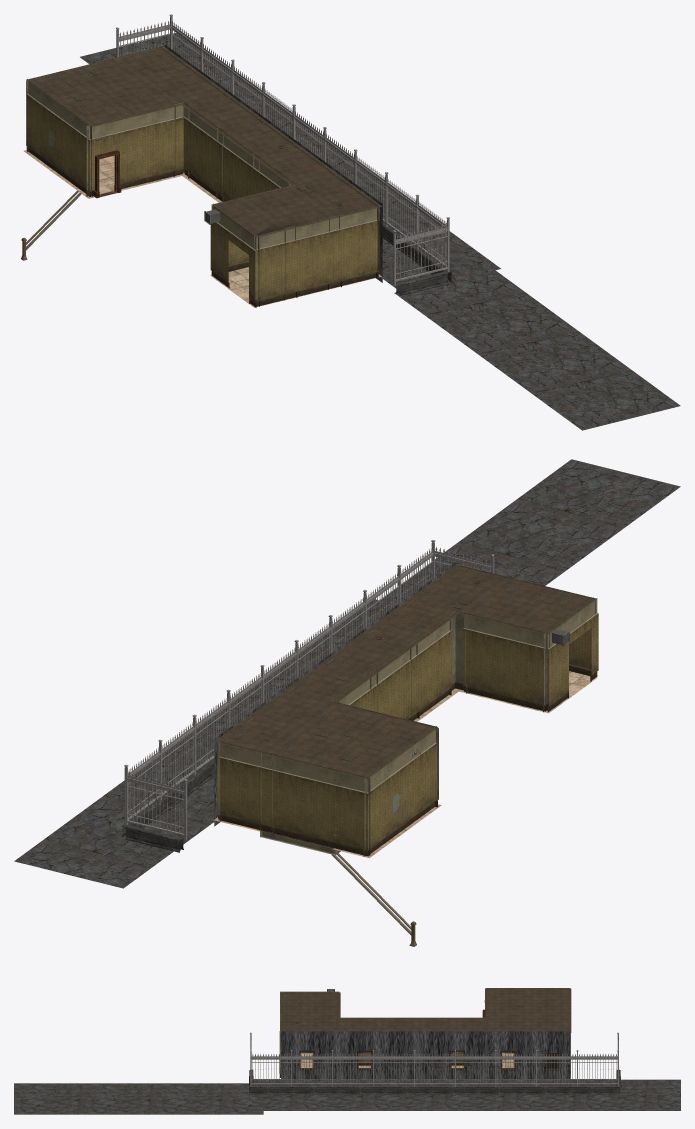
Rendered from st4_303_0_terrain_00ms.fbx.
The picture shows the model from 3 angles, top to bottom: view 1: azimuth 30°, elevation 25°; view 2: azimuth 150°, elevation 25°; view 3: azimuth 270°, elevation 25°; orthographic projection. The views are drawn at different scales.
Visible parts, largest first — view 1: LOD_1_Group_0_Sub_3__st2_police1fRightWall04, LOD_1_Group_0_Sub_13__st1_townGround02_Mat, LOD_1_Group_0_Sub_5__st2_police1fRightCeiling03, LOD_1_Group_0_Sub_15__st1_townPoliceFence01_Mat, LOD_1_Group_0_Sub_2__st2_police1fRightFloor03, LOD_1_Group_0_Sub_14__fefefefe_st1_townPolice00_Mat, LOD_1_Group_0_Sub_4__OutWall, LOD_1_Group_0_Sub_9__st2_police1fRightDoor11; view 2: LOD_1_Group_0_Sub_3__st2_police1fRightWall04, LOD_1_Group_0_Sub_13__st1_townGround02_Mat, LOD_1_Group_0_Sub_5__st2_police1fRightCeiling03, LOD_1_Group_0_Sub_15__st1_townPoliceFence01_Mat, LOD_1_Group_0_Sub_14__fefefefe_st1_townPolice00_Mat, LOD_1_Group_0_Sub_2__st2_police1fRightFloor03, LOD_1_Group_0_Sub_4__OutWall, LOD_1_Group_0_Sub_1__st2_police1fRightStairs01; view 3: LOD_1_Group_0_Sub_13__st1_townGround02_Mat, LOD_1_Group_0_Sub_4__OutWall, LOD_1_Group_0_Sub_5__st2_police1fRightCeiling03, LOD_1_Group_0_Sub_15__st1_townPoliceFence01_Mat, LOD_1_Group_0_Sub_14__fefefefe_st1_townPolice00_Mat, LOD_1_Group_0_Sub_3__st2_police1fRightWall04, LOD_1_Group_0_Sub_6__st2_police1fRightWindows03, LOD_1_Group_0_Sub_2__st2_police1fRightFloor03.
Boxes of the visible parts, <box> form: LOD_1_Group_0_Sub_3__st2_police1fRightWall04: <box>26,47,379,307</box>; LOD_1_Group_0_Sub_13__st1_townGround02_Mat: <box>80,33,680,430</box>; LOD_1_Group_0_Sub_5__st2_police1fRightCeiling03: <box>26,46,382,237</box>; LOD_1_Group_0_Sub_15__st1_townPoliceFence01_Mat: <box>116,14,449,285</box>; LOD_1_Group_0_Sub_2__st2_police1fRightFloor03: <box>24,150,381,307</box>; LOD_1_Group_0_Sub_14__fefefefe_st1_townPolice00_Mat: <box>382,222,452,295</box>; LOD_1_Group_0_Sub_4__OutWall: <box>164,45,382,282</box>; LOD_1_Group_0_Sub_9__st2_police1fRightDoor11: <box>93,150,121,198</box>; LOD_1_Group_0_Sub_3__st2_police1fRightWall04: <box>217,565,598,856</box>; LOD_1_Group_0_Sub_13__st1_townGround02_Mat: <box>14,459,680,888</box>; LOD_1_Group_0_Sub_5__st2_police1fRightCeiling03: <box>213,564,595,779</box>; LOD_1_Group_0_Sub_15__st1_townPoliceFence01_Mat: <box>124,540,494,840</box>; LOD_1_Group_0_Sub_14__fefefefe_st1_townPolice00_Mat: <box>121,759,214,852</box>; LOD_1_Group_0_Sub_2__st2_police1fRightFloor03: <box>213,671,597,858</box>; LOD_1_Group_0_Sub_4__OutWall: <box>214,562,455,826</box>; LOD_1_Group_0_Sub_1__st2_police1fRightStairs01: <box>331,829,416,946</box>; LOD_1_Group_0_Sub_13__st1_townGround02_Mat: <box>14,1079,680,1114</box>; LOD_1_Group_0_Sub_4__OutWall: <box>281,1031,569,1079</box>; LOD_1_Group_0_Sub_5__st2_police1fRightCeiling03: <box>280,988,571,1032</box>; LOD_1_Group_0_Sub_15__st1_townPoliceFence01_Mat: <box>250,1032,618,1086</box>; LOD_1_Group_0_Sub_14__fefefefe_st1_townPolice00_Mat: <box>249,1069,620,1094</box>; LOD_1_Group_0_Sub_3__st2_police1fRightWall04: <box>279,988,570,1077</box>; LOD_1_Group_0_Sub_6__st2_police1fRightWindows03: <box>299,1050,559,1070</box>; LOD_1_Group_0_Sub_2__st2_police1fRightFloor03: <box>300,1053,570,1078</box>.
Bounding box in the file's own units: 15.03 × 8.96 × 50.51.
